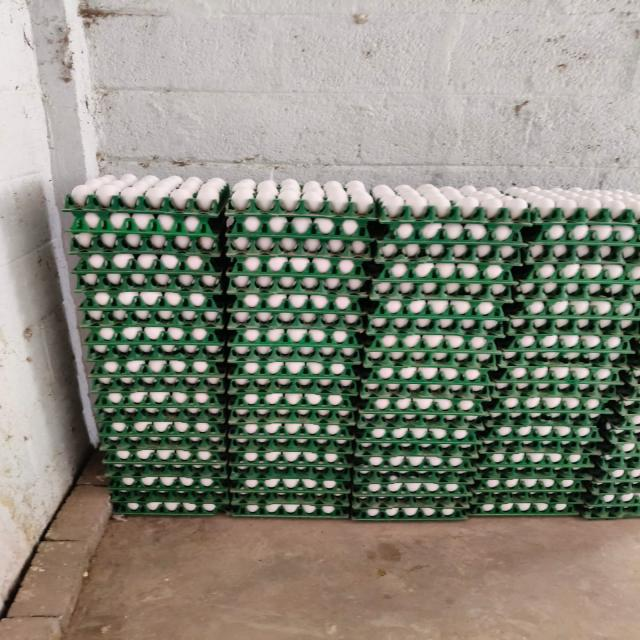egg_tray: (353, 334, 495, 519), (471, 366, 619, 514), (76, 251, 221, 392), (372, 184, 639, 260), (87, 326, 225, 468), (87, 327, 224, 461), (373, 184, 639, 244), (508, 187, 639, 298), (77, 254, 223, 352), (83, 291, 223, 392), (502, 264, 638, 367), (368, 243, 513, 335), (229, 328, 359, 430), (229, 324, 359, 423), (65, 174, 228, 252), (229, 238, 365, 330), (78, 274, 223, 357), (354, 422, 477, 519), (229, 421, 353, 517), (101, 421, 228, 514), (373, 185, 526, 262), (230, 421, 353, 516), (227, 179, 374, 258), (228, 294, 363, 380), (85, 326, 225, 406), (483, 383, 616, 463), (229, 328, 360, 406), (229, 256, 367, 330), (85, 318, 223, 392), (507, 264, 638, 341), (90, 344, 224, 412), (101, 420, 226, 492), (97, 398, 227, 463), (229, 181, 367, 239), (355, 412, 482, 472), (359, 367, 493, 423), (583, 386, 639, 518), (355, 414, 482, 472), (525, 199, 639, 262), (478, 412, 601, 470), (376, 214, 524, 262), (470, 456, 590, 515), (229, 309, 362, 362), (229, 421, 352, 478), (66, 174, 228, 217), (478, 412, 601, 468), (478, 414, 601, 469), (87, 343, 226, 391), (226, 212, 371, 258), (363, 333, 499, 381), (352, 466, 473, 519), (107, 462, 228, 515), (361, 352, 494, 400), (361, 351, 494, 399), (372, 184, 530, 224), (69, 212, 219, 254), (375, 222, 525, 264), (230, 464, 350, 516), (228, 178, 375, 220), (361, 351, 492, 398), (229, 419, 353, 468), (230, 328, 359, 375), (527, 205, 639, 259), (353, 469, 473, 519), (107, 465, 228, 514), (73, 253, 221, 293), (479, 416, 602, 464), (470, 464, 588, 514), (93, 376, 224, 421), (496, 325, 632, 368), (371, 261, 515, 301), (107, 458, 228, 505), (93, 378, 225, 421), (228, 256, 369, 296), (364, 327, 500, 368), (78, 290, 224, 328), (352, 472, 469, 519), (228, 354, 358, 396), (84, 324, 225, 362), (367, 298, 506, 336), (229, 425, 353, 467), (228, 359, 359, 398), (363, 333, 500, 370), (228, 293, 363, 330), (505, 186, 639, 223), (354, 432, 477, 472), (356, 418, 482, 457), (101, 423, 226, 462), (229, 452, 350, 492), (515, 262, 639, 301), (499, 332, 633, 368), (229, 425, 352, 464), (506, 300, 639, 335), (89, 358, 225, 392), (230, 480, 349, 518), (356, 431, 478, 467), (94, 387, 225, 420), (361, 366, 492, 399), (94, 390, 226, 422), (491, 366, 623, 398), (512, 296, 639, 329), (527, 208, 639, 245), (229, 392, 357, 424), (473, 467, 590, 500), (482, 412, 601, 444), (485, 409, 611, 439), (230, 464, 350, 495), (581, 454, 639, 518), (100, 420, 227, 449), (106, 464, 228, 494), (486, 389, 611, 418), (353, 470, 473, 500), (101, 438, 227, 466), (357, 417, 483, 444), (229, 422, 353, 449), (482, 414, 601, 442), (69, 234, 219, 256), (360, 395, 485, 421), (230, 491, 349, 518), (352, 492, 469, 519), (111, 489, 227, 515), (469, 491, 583, 516), (469, 492, 583, 516), (523, 241, 639, 264), (358, 412, 484, 433), (597, 414, 639, 470), (585, 476, 639, 517), (580, 483, 639, 519), (613, 338, 639, 417), (352, 503, 468, 520), (85, 200, 155, 226), (279, 180, 343, 208), (592, 452, 639, 482), (621, 338, 639, 414), (345, 184, 372, 210), (169, 498, 209, 512), (137, 391, 173, 402), (112, 453, 148, 462), (118, 501, 147, 512), (274, 466, 293, 480), (613, 247, 637, 258), (106, 392, 132, 402), (176, 454, 197, 463), (330, 238, 341, 255), (266, 366, 285, 375), (114, 344, 131, 354), (420, 481, 453, 486), (157, 454, 176, 461), (467, 372, 480, 382), (161, 216, 170, 228), (117, 406, 132, 413), (187, 256, 202, 263), (509, 456, 524, 463), (505, 226, 519, 233), (299, 475, 315, 481), (355, 241, 362, 254), (403, 228, 412, 238), (118, 408, 130, 415), (273, 247, 287, 253), (137, 219, 150, 225), (150, 506, 163, 512), (509, 252, 518, 260), (377, 242, 381, 260), (246, 369, 260, 374), (105, 404, 116, 410), (138, 345, 151, 350), (436, 243, 442, 253), (519, 502, 529, 508), (145, 405, 152, 413), (603, 411, 611, 418), (178, 450, 185, 458), (178, 345, 189, 350), (230, 277, 235, 288), (196, 366, 205, 372), (536, 322, 549, 326), (93, 344, 106, 348), (569, 458, 579, 463), (632, 201, 639, 208), (188, 218, 195, 225), (261, 244, 268, 251), (181, 275, 193, 279), (382, 368, 390, 374), (139, 442, 150, 446), (229, 238, 233, 249), (180, 393, 194, 396), (599, 252, 606, 258), (87, 222, 94, 228), (230, 399, 236, 406), (278, 228, 284, 235), (453, 189, 459, 196), (212, 408, 220, 413), (600, 324, 610, 328), (387, 472, 397, 476), (358, 430, 366, 435), (148, 408, 154, 414), (514, 452, 520, 458), (190, 256, 199, 260), (289, 456, 295, 462), (475, 420, 481, 426), (149, 222, 156, 227), (508, 247, 515, 252), (252, 485, 259, 490), (291, 370, 299, 374), (411, 246, 416, 252), (327, 347, 334, 351), (129, 368, 136, 372), (532, 452, 539, 456), (234, 446, 241, 450), (481, 509, 494, 511), (548, 471, 553, 476), (378, 403, 383, 408), (487, 245, 492, 250), (388, 248, 393, 253), (276, 201, 281, 206), (302, 200, 307, 205), (354, 485, 359, 490), (547, 336, 552, 341), (162, 408, 168, 412), (206, 394, 212, 398), (163, 256, 175, 258), (493, 453, 501, 456), (167, 346, 173, 350), (314, 487, 322, 490), (541, 505, 547, 509), (147, 500, 158, 502), (434, 223, 441, 226), (327, 487, 334, 490), (156, 242, 161, 246), (317, 425, 327, 427), (348, 382, 353, 386), (531, 459, 536, 463), (386, 512, 392, 515), (287, 210, 293, 213), (450, 327, 459, 329), (175, 215, 179, 219), (230, 316, 232, 324), (162, 406, 166, 410), (327, 240, 331, 244), (243, 229, 247, 233), (443, 188, 451, 190), (475, 421, 478, 426), (532, 445, 535, 450), (274, 345, 277, 350), (165, 345, 170, 348), (267, 486, 272, 489), (314, 371, 319, 374), (567, 398, 574, 400), (207, 230, 210, 234), (164, 203, 166, 209), (589, 430, 592, 434), (216, 276, 219, 280), (170, 263, 174, 266), (307, 443, 311, 446), (632, 376, 634, 382), (428, 354, 431, 358), (427, 372, 430, 376), (129, 283, 133, 286), (280, 487, 284, 490), (229, 249, 232, 253), (177, 396, 179, 401), (292, 466, 297, 468), (378, 403, 381, 406), (421, 220, 424, 223), (102, 280, 105, 283), (418, 353, 421, 356), (565, 456, 568, 459), (299, 237, 302, 240), (287, 205, 290, 208), (596, 338, 599, 341), (132, 242, 136, 244), (148, 228, 152, 230), (90, 218, 94, 220), (96, 262, 98, 266), (243, 488, 247, 490), (462, 466, 466, 468), (230, 231, 232, 235), (270, 230, 274, 232), (549, 344, 553, 346), (106, 408, 109, 410), (205, 246, 208, 248), (492, 434, 495, 436), (269, 346, 271, 349), (131, 365, 134, 367), (108, 344, 111, 346), (425, 372, 427, 375), (207, 354, 209, 357), (323, 375, 326, 377), (230, 368, 232, 371), (298, 488, 301, 490), (169, 508, 171, 511), (410, 243, 413, 245), (383, 336, 386, 338), (359, 431, 362, 433), (245, 270, 248, 272), (292, 230, 295, 232), (311, 206, 314, 208), (494, 189, 497, 191), (303, 452, 308, 453), (143, 285, 148, 286), (558, 458, 563, 459), (318, 425, 323, 426), (113, 396, 115, 398), (206, 240, 208, 242), (75, 212, 77, 214), (577, 252, 579, 254), (116, 256, 118, 258), (108, 452, 110, 454), (162, 450, 166, 451), (351, 309, 355, 310), (236, 305, 238, 307), (394, 222, 396, 224), (176, 506, 178, 508), (551, 460, 553, 462), (326, 425, 330, 426), (260, 222, 262, 224), (510, 198, 512, 200), (178, 398, 181, 399), (612, 260, 615, 261), (290, 452, 293, 453), (188, 276, 191, 277), (133, 214, 136, 215), (86, 214, 89, 215), (341, 462, 344, 463), (602, 374, 605, 375), (115, 440, 116, 443), (318, 416, 321, 417), (392, 483, 395, 484), (605, 196, 607, 197), (135, 398, 137, 399), (155, 238, 157, 239), (76, 220, 77, 222), (168, 211, 170, 212), (612, 327, 614, 328), (585, 296, 587, 297), (283, 462, 285, 463), (306, 447, 308, 448), (536, 457, 537, 459), (453, 465, 455, 466), (374, 465, 376, 466), (124, 329, 126, 330), (454, 223, 456, 224), (154, 256, 155, 258), (573, 260, 575, 261), (418, 356, 420, 357), (276, 417, 277, 419), (269, 244, 270, 246), (269, 241, 270, 243), (592, 339, 593, 341), (581, 373, 582, 374), (112, 396, 113, 397), (156, 320, 157, 321), (471, 380, 472, 381), (523, 403, 524, 404), (140, 256, 141, 257), (298, 349, 299, 350), (127, 367, 128, 368), (538, 396, 539, 397), (368, 458, 369, 459), (218, 456, 219, 457), (187, 349, 188, 350), (163, 256, 164, 257), (336, 449, 337, 450), (614, 420, 615, 421), (167, 440, 168, 441), (336, 200, 337, 201), (587, 199, 589, 199), (179, 405, 179, 405), (163, 230, 164, 230), (180, 214, 181, 214), (205, 193, 205, 194), (99, 305, 99, 306), (485, 394, 485, 395), (247, 330, 252, 330), (409, 416, 412, 416), (398, 421, 399, 421), (307, 461, 308, 461), (549, 454, 553, 454), (580, 490, 581, 490), (582, 472, 583, 472), (282, 483, 283, 483), (144, 452, 146, 452), (330, 310, 334, 310), (459, 225, 459, 226), (634, 425, 634, 426), (134, 354, 134, 354), (203, 278, 203, 279), (261, 296, 261, 297), (334, 448, 334, 448), (149, 512, 150, 512), (209, 510, 210, 510), (379, 252, 379, 256), (454, 232, 455, 232), (429, 232, 430, 232), (461, 190, 461, 190), (477, 421, 478, 421), (263, 423, 273, 423), (281, 418, 281, 419), (400, 430, 401, 430), (470, 423, 470, 424), (249, 272, 250, 272), (311, 230, 312, 230), (290, 230, 290, 230), (263, 221, 264, 221), (299, 201, 299, 204), (303, 198, 303, 199), (339, 198, 339, 199), (407, 483, 418, 483), (498, 192, 499, 192), (603, 338, 603, 339), (638, 274, 640, 274)
